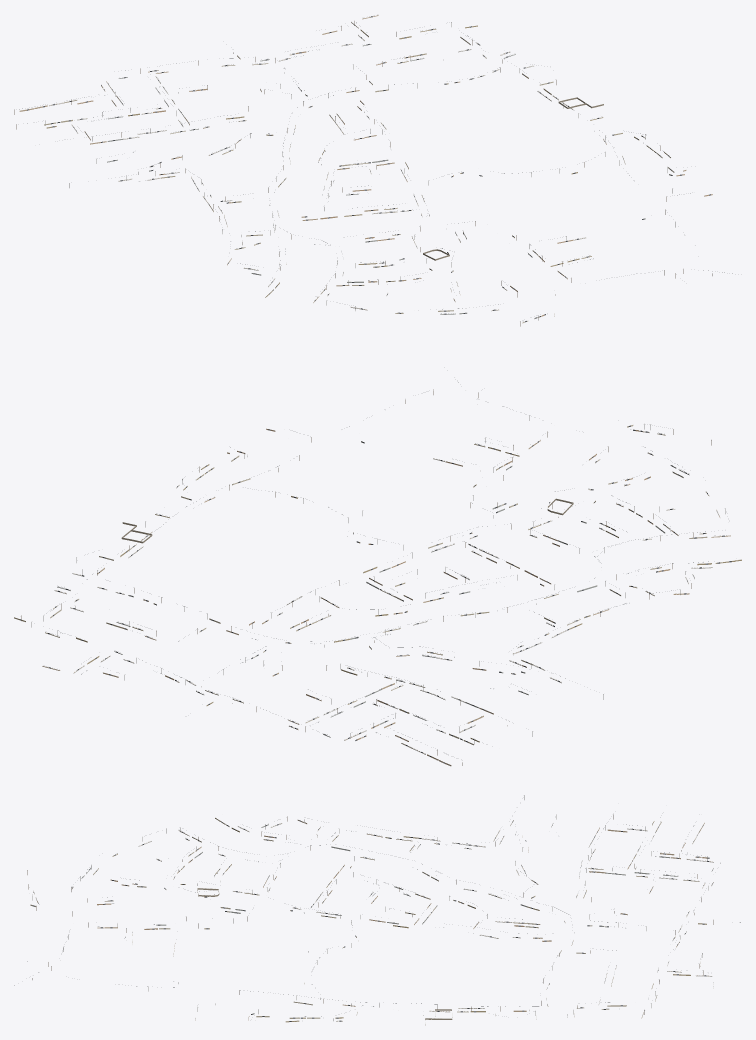
3 views of the same model, one above another, from view 1: azimuth 30°, elevation 25°; view 2: azimuth 150°, elevation 25°; view 3: azimuth 270°, elevation 25° (orthographic). The views are drawn at different scales.
Parts seen in each view (by area): view 1: nd_st_m8_m6_lod0; view 2: nd_st_m8_m6_lod0; view 3: nd_st_m8_m6_lod0.
Part boxes in pixels (x1,y1,x2,y2): nd_st_m8_m6_lod0: [14, 15, 732, 326]; nd_st_m8_m6_lod0: [14, 382, 741, 766]; nd_st_m8_m6_lod0: [14, 795, 740, 1025].
Size of what is drawn, in the model's own units: 786 by 19.15 by 1056.
